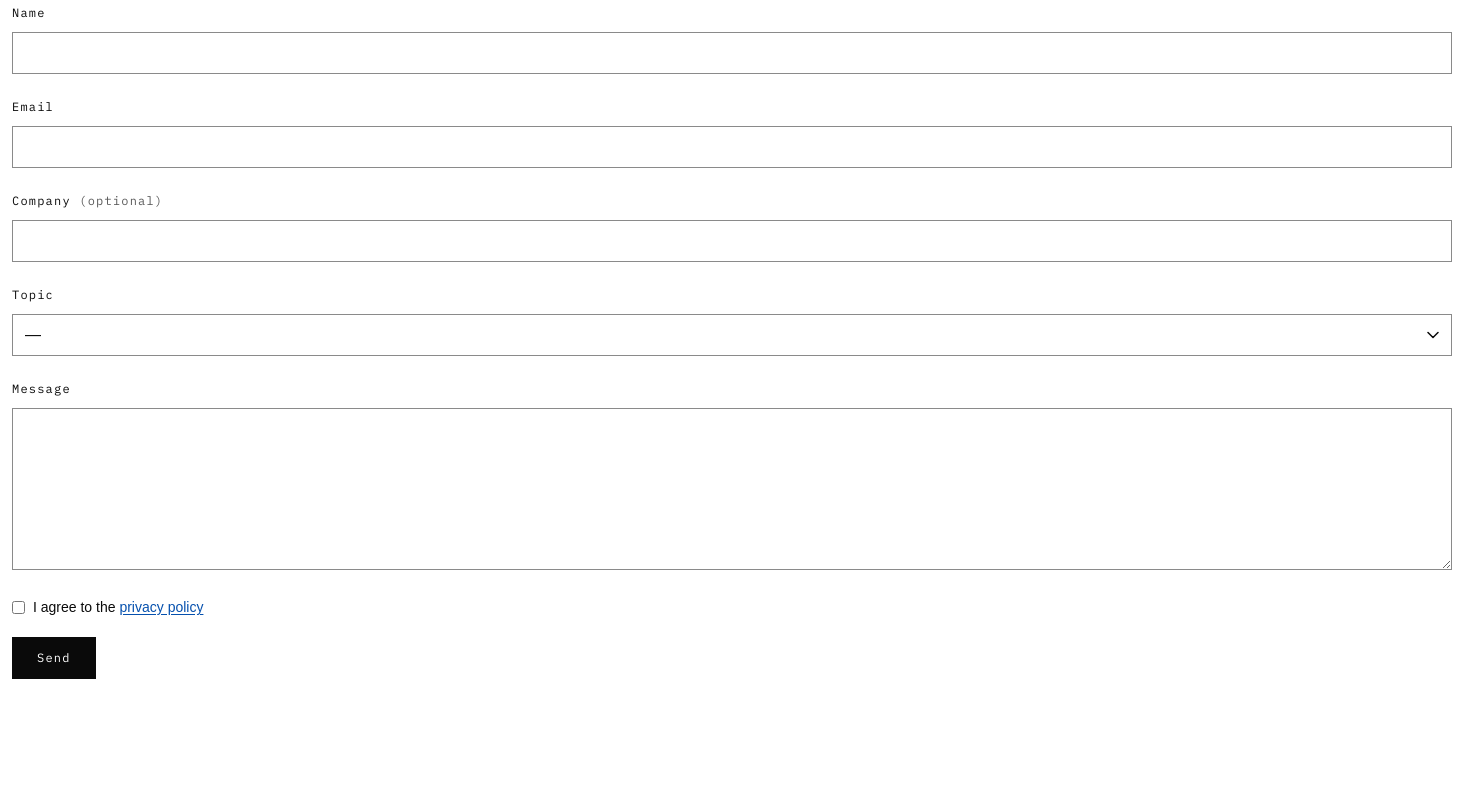
Test case: ContactForm › checking the entry in the browser › shows the message of a wrong email and does not send
In the field labelled "Name": (732, 53) [12, 32, 1452, 74], type "山田 太郎"
In the field labelled "Email": (732, 147) [12, 126, 1452, 168], type "taro@example.com"
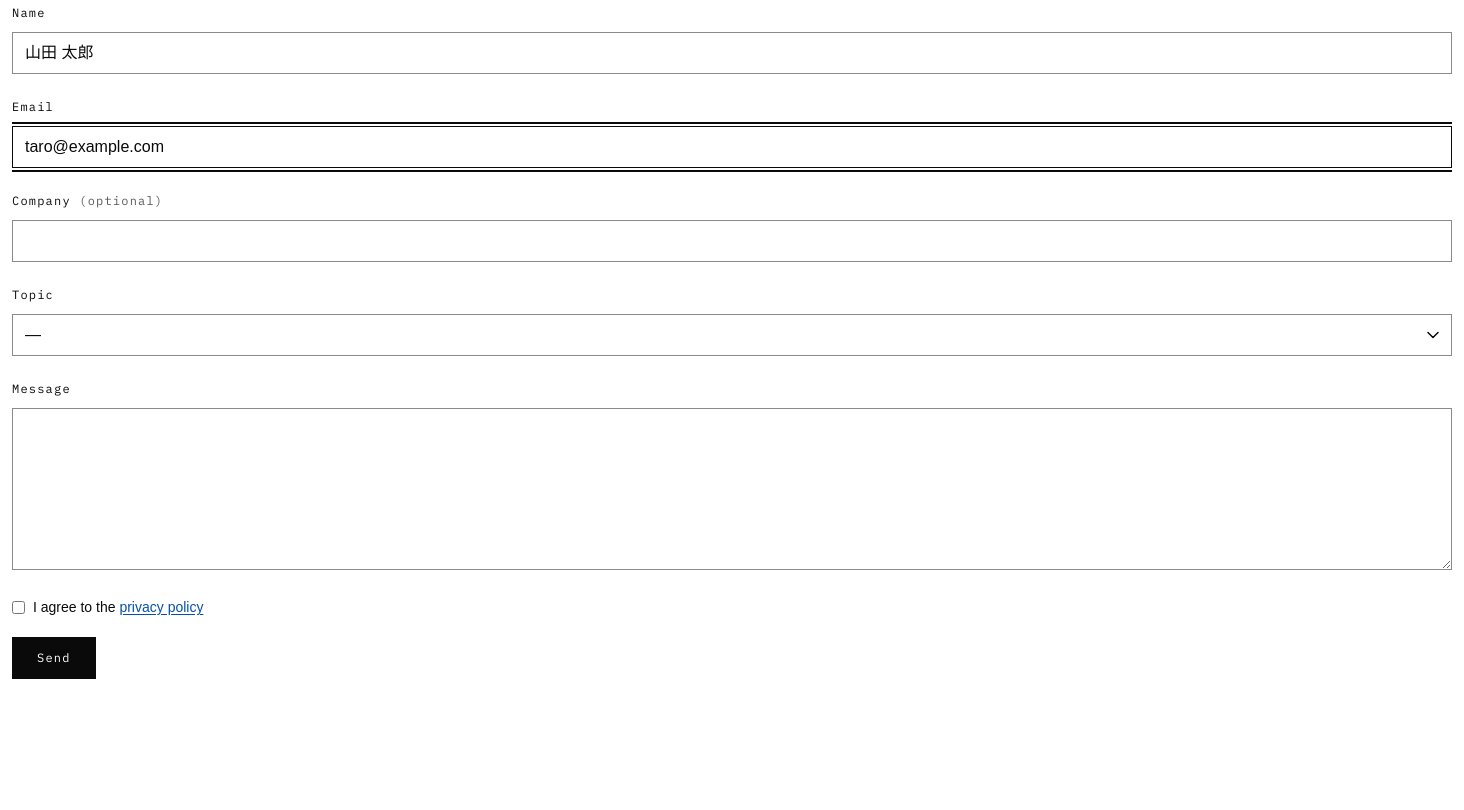
Select "Pipeline" in the dropdown labelled "Topic": (732, 335) [12, 314, 1452, 356]
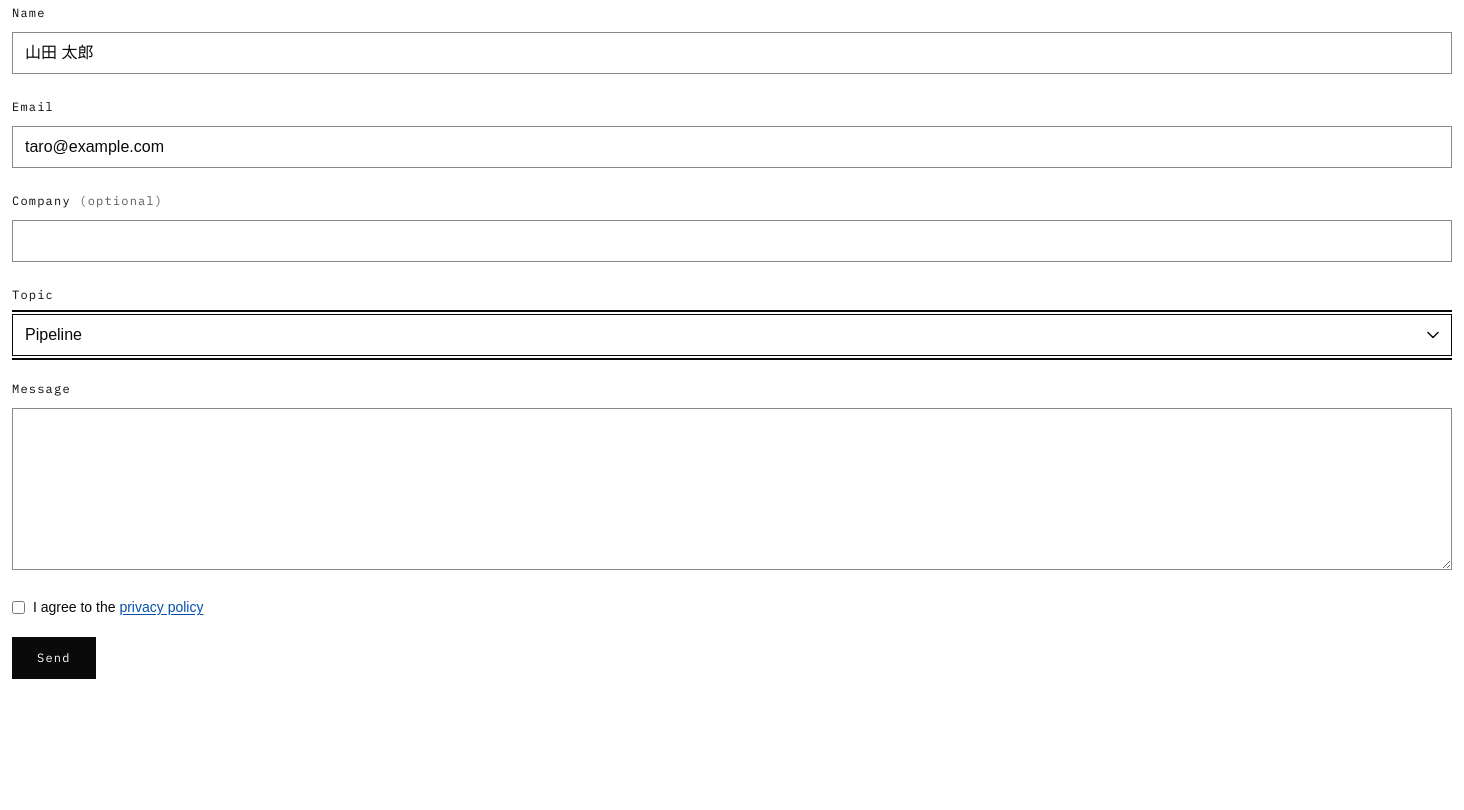
In the text box labelled "Message": (732, 489) [12, 408, 1452, 570], type "相談です"
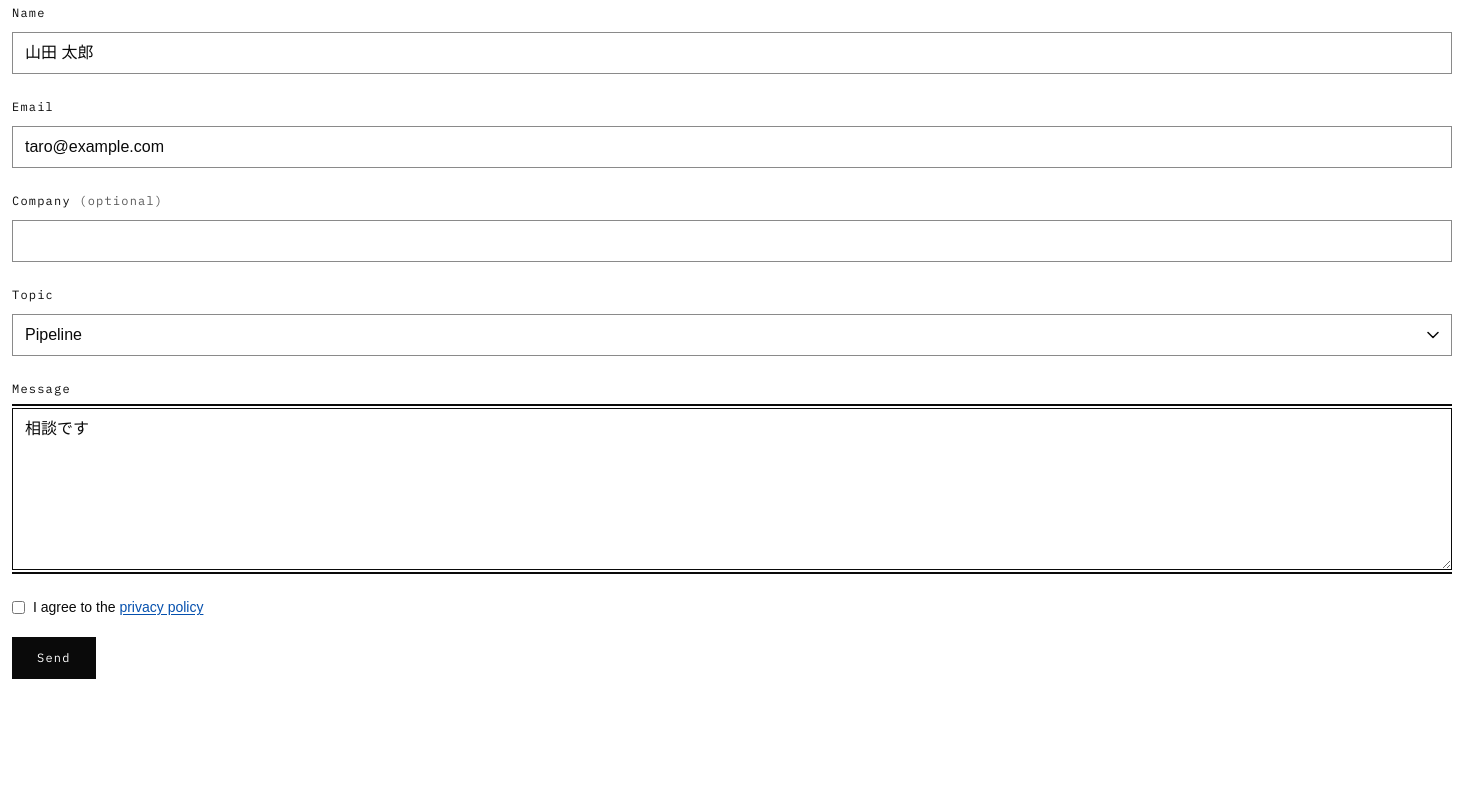
Click the checkbox labelled "I agree to the privacy policy": (18, 607) [12, 600, 25, 614]
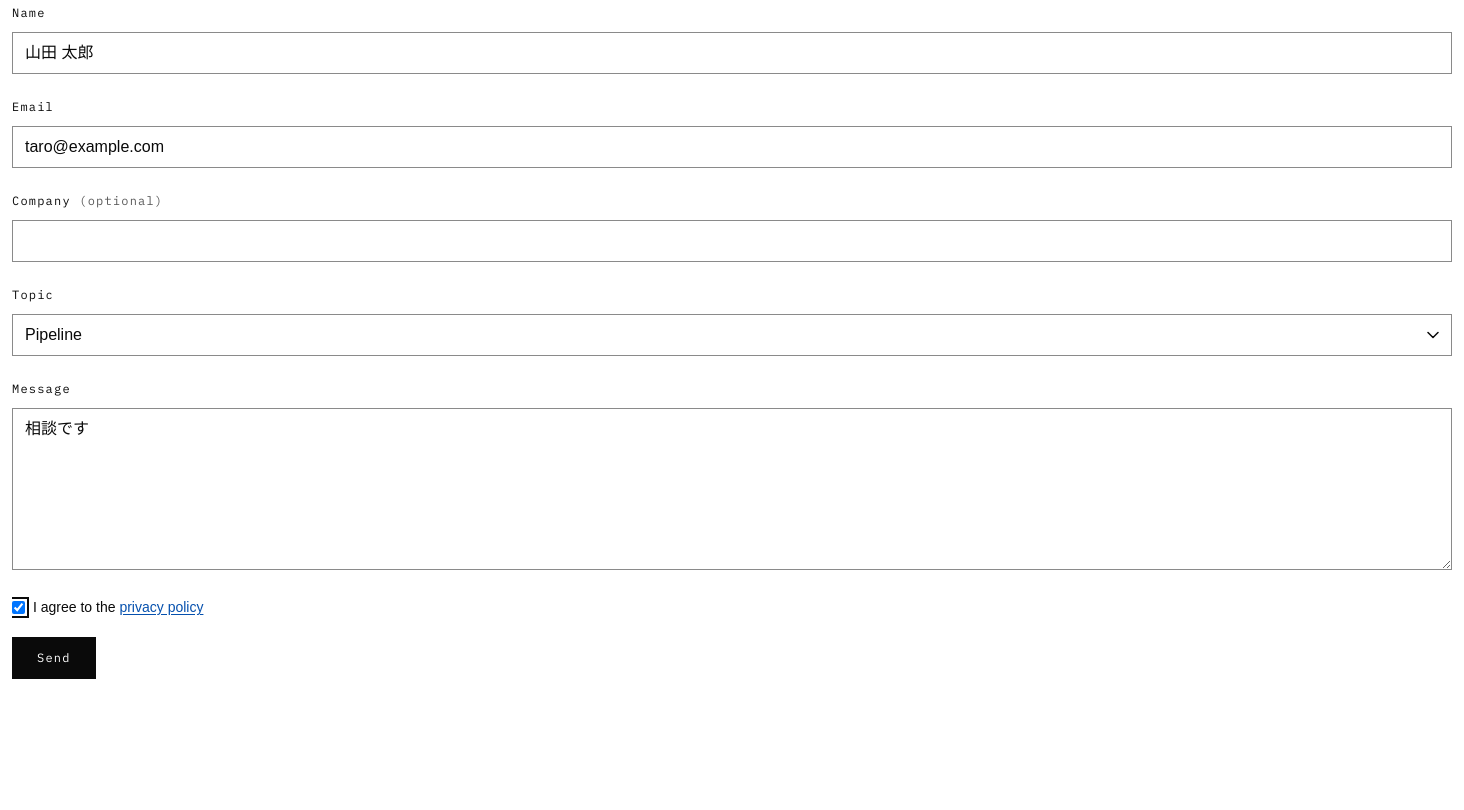
Replace the text in the field labelled "Email" with "taro@": (732, 147) [12, 126, 1452, 168]
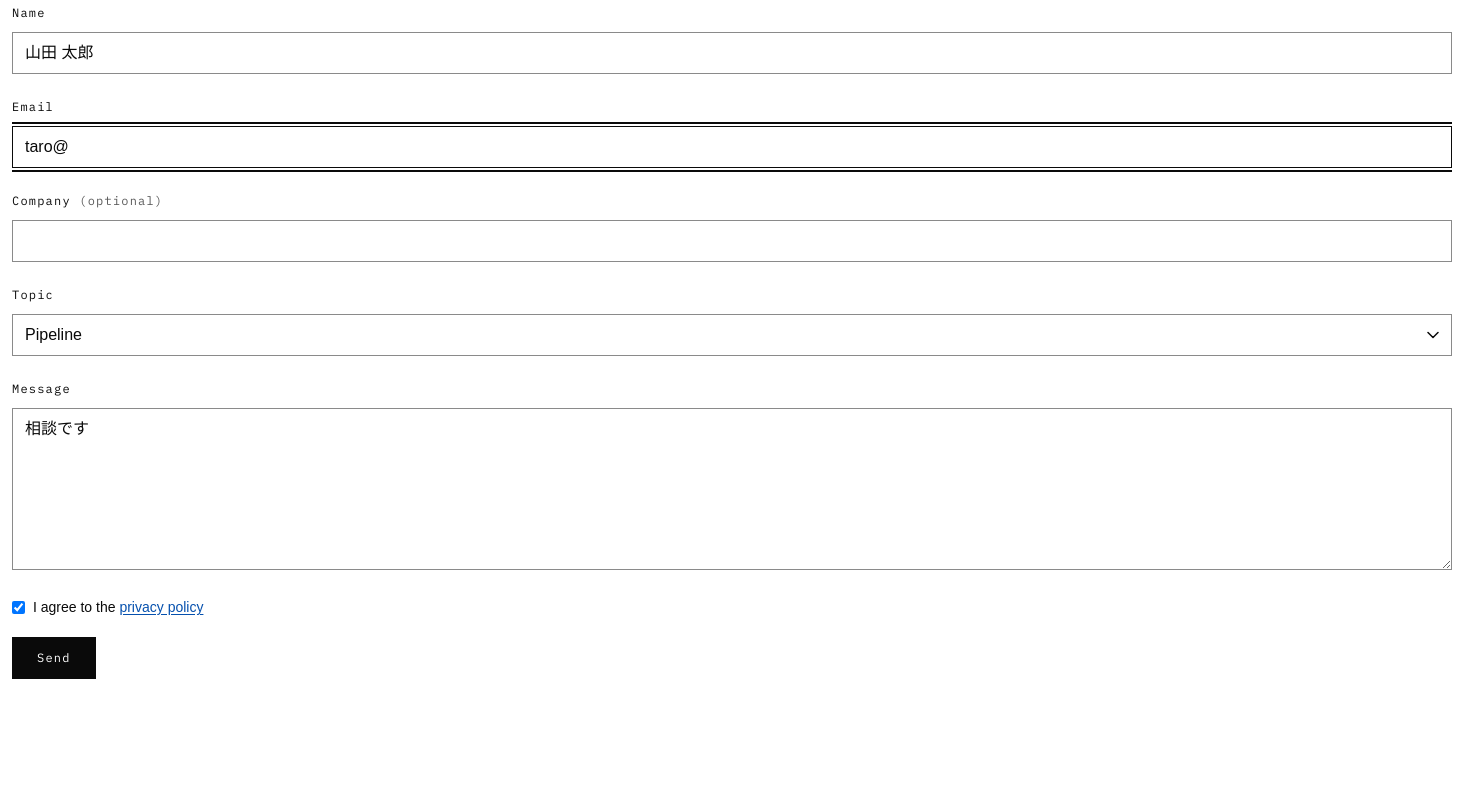
Click the button "Send": (54, 658) [12, 637, 96, 679]
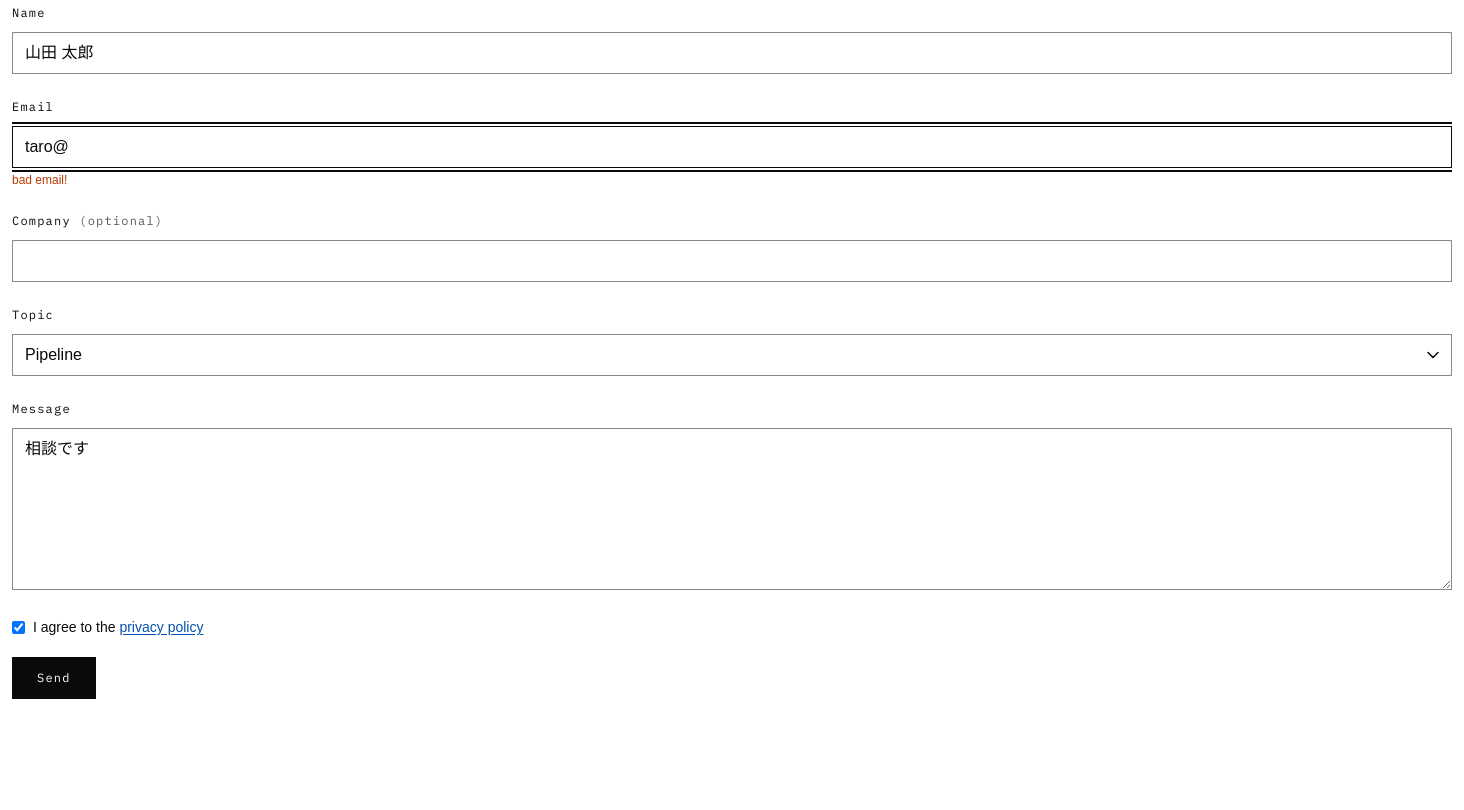
Now the text "bad email!" is shown, box [12, 173, 67, 187]
